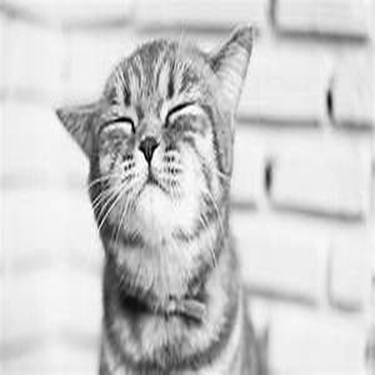cat: (55, 15, 276, 367)
